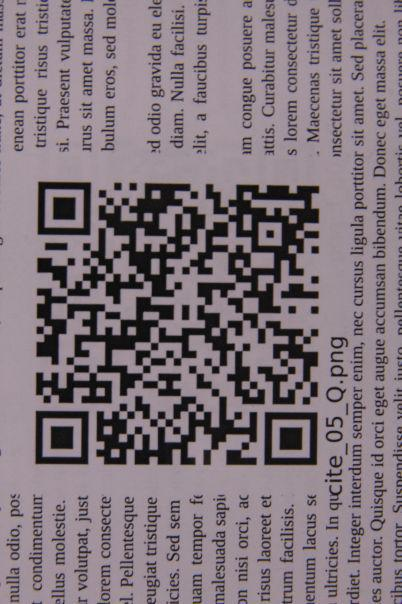Finder pattern: (29, 174, 97, 243), (32, 407, 97, 468), (262, 407, 321, 470)
